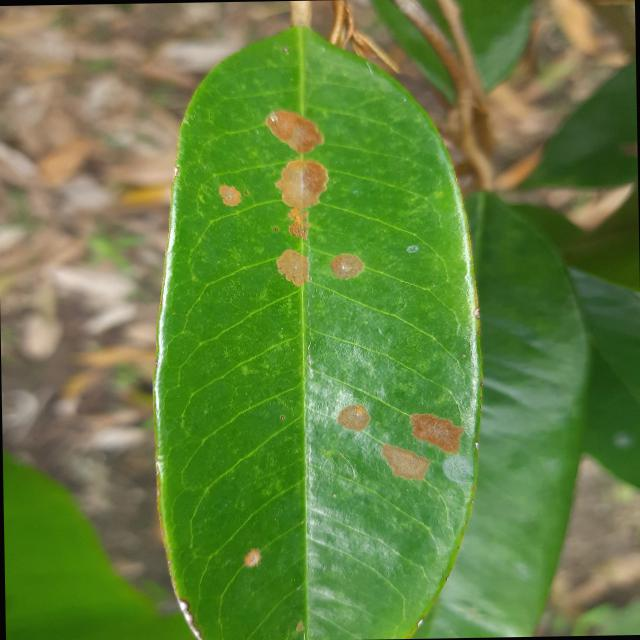Algal Leaf Spot: (134, 12, 495, 639)
